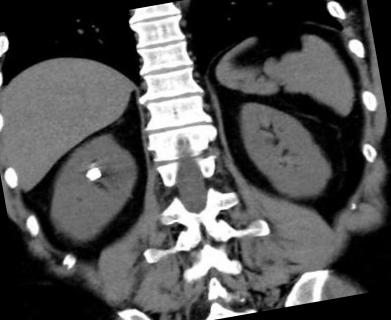Tas_Var: (82, 162, 104, 184)
